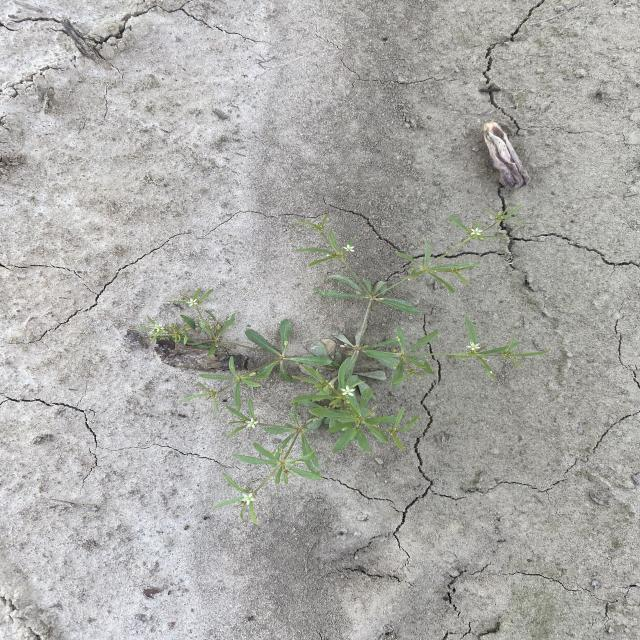Carpetweed: (129, 202, 553, 527)
